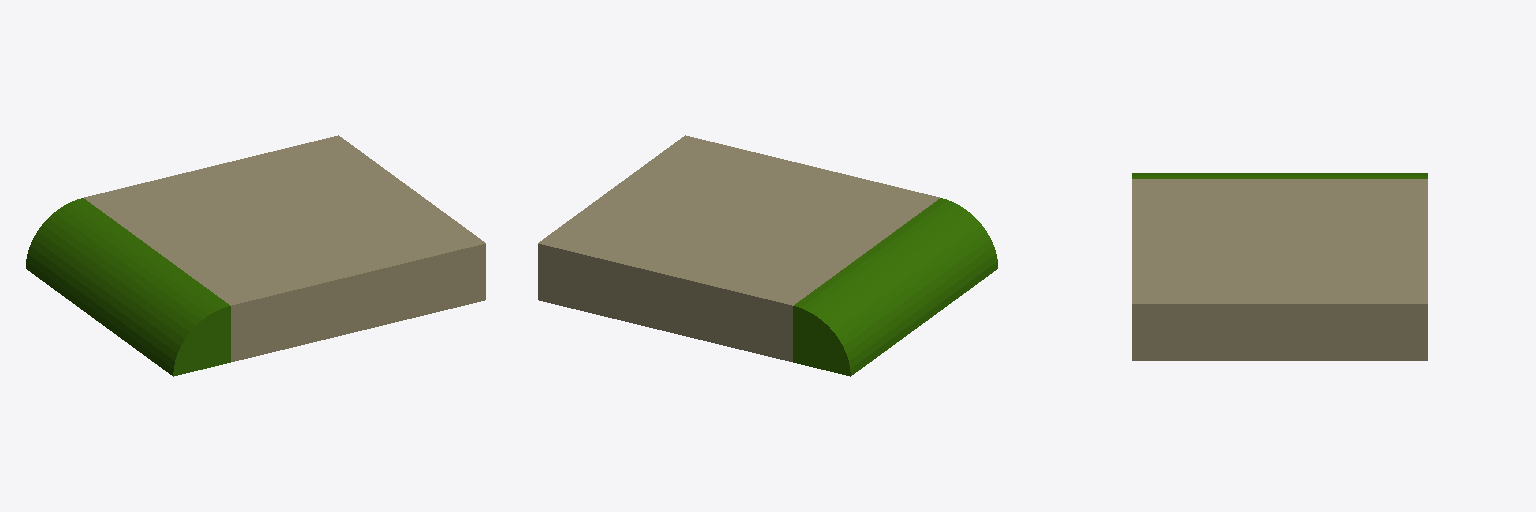
3 renders of one model, left to right at view 1: azimuth 30°, elevation 25°; view 2: azimuth 150°, elevation 25°; view 3: azimuth 270°, elevation 25°, orthographic.
Parts seen in each view (by area): view 1: G-__555663_G-__555663_Dark_brick, G-__555663_G-__555663_[Green]; view 2: G-__555663_G-__555663_Dark_brick, G-__555663_G-__555663_[Green]; view 3: G-__555663_G-__555663_Dark_brick, G-__555663_G-__555663_[Green].
Boxes of the visible parts, x1=… form: G-__555663_G-__555663_Dark_brick: x1=84, y1=135, x2=485, y2=361; G-__555663_G-__555663_[Green]: x1=26, y1=198, x2=230, y2=376; G-__555663_G-__555663_Dark_brick: x1=538, y1=135, x2=939, y2=361; G-__555663_G-__555663_[Green]: x1=793, y1=198, x2=997, y2=376; G-__555663_G-__555663_Dark_brick: x1=1132, y1=179, x2=1427, y2=360; G-__555663_G-__555663_[Green]: x1=1132, y1=173, x2=1427, y2=178.
Size of the model in its own units: 1.23 by 0.2125 by 1.